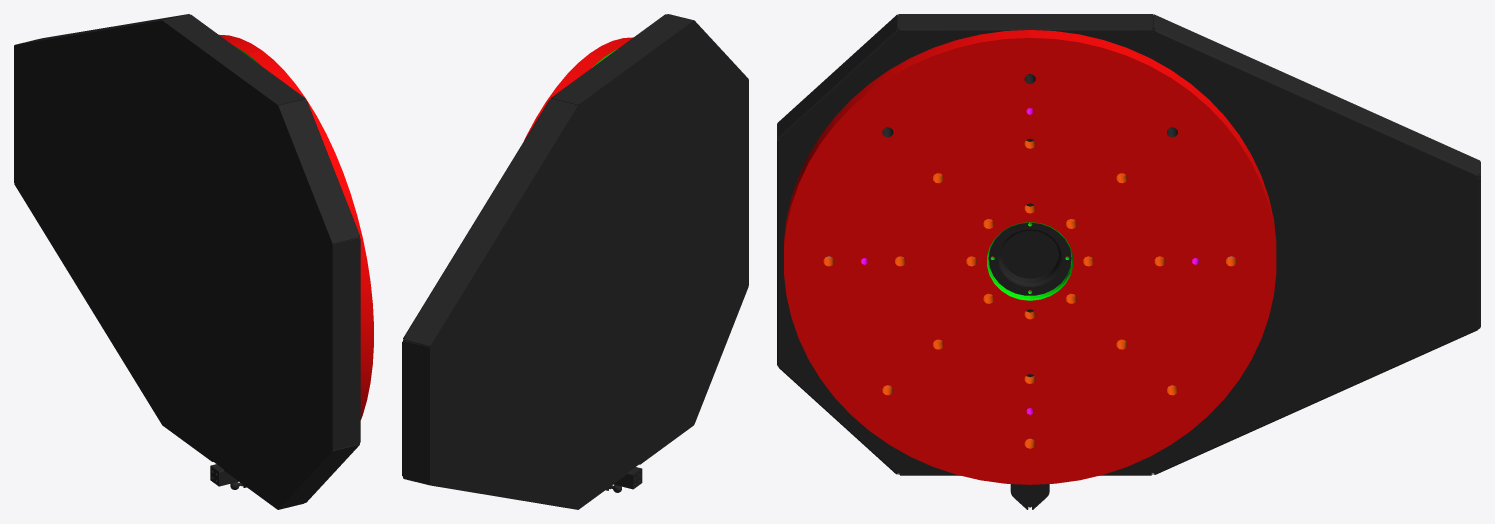
Rendered from Driver_Faceplate_P2.dae.
3 renders of one model, left to right at view 1: azimuth 30°, elevation 25°; view 2: azimuth 150°, elevation 25°; view 3: azimuth 270°, elevation 25°, orthographic. The views are drawn at different scales.
Visible parts, largest first — view 1: Node_0000018E3E9D54F0 (×2); view 2: Node_0000018E3E9D54F0 (×2); view 3: Node_0000018E3E9D54F0 (×4).
Part boxes in pixels (box(x1,y1,x2,y2)): Node_0000018E3E9D54F0 (×2): box(14, 14, 373, 509); Node_0000018E3E9D54F0 (×2): box(402, 14, 748, 509); Node_0000018E3E9D54F0 (×4): box(777, 14, 1480, 509).
Size of the model in its own units: 0.094 by 0.8117 by 1.08.
